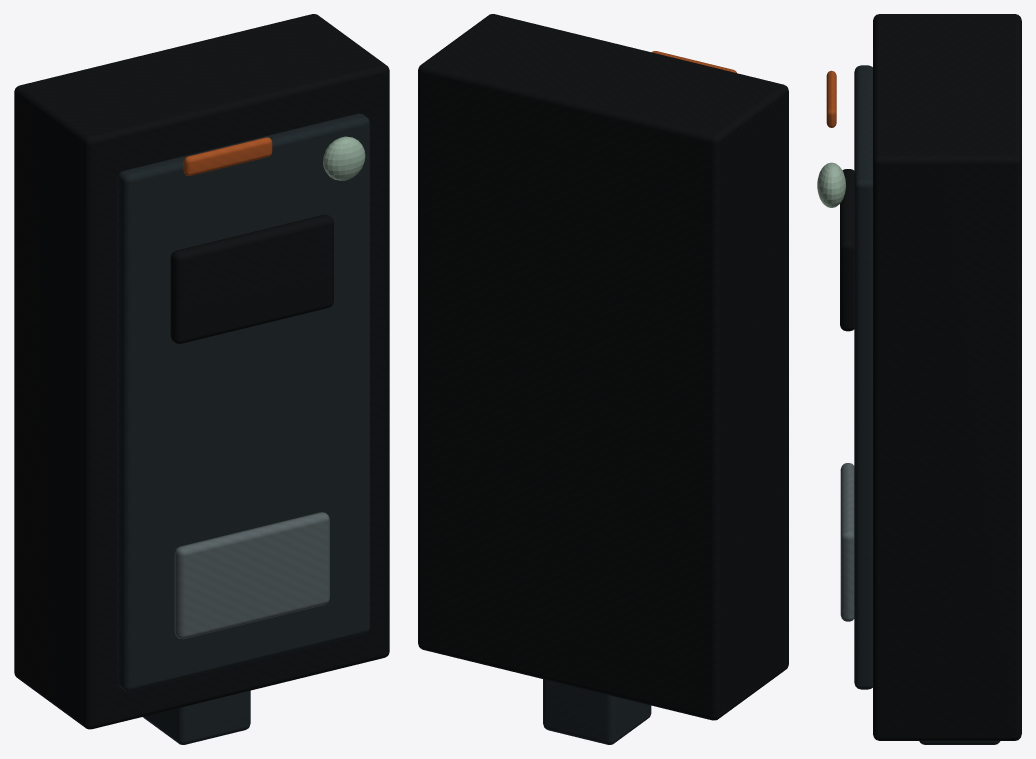
The model's file is GasDetector.fbx.
3 views of the same model, side by side, from view 1: azimuth 30°, elevation 25°; view 2: azimuth 150°, elevation 25°; view 3: azimuth 270°, elevation 25° (orthographic).
Visible parts, largest first — view 1: GasDetector_Mesh; view 2: GasDetector_Mesh; view 3: GasDetector_Mesh.
Part boxes in pixels (left/top/right/bottom): GasDetector_Mesh: left=14, top=14, right=389, bottom=744; GasDetector_Mesh: left=418, top=14, right=788, bottom=744; GasDetector_Mesh: left=817, top=14, right=1021, bottom=744.
Size of the model in its own units: 42 by 86 by 24.75.
